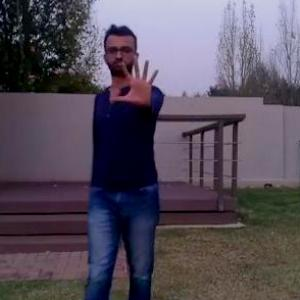follow_hand: (108, 53, 164, 106)
